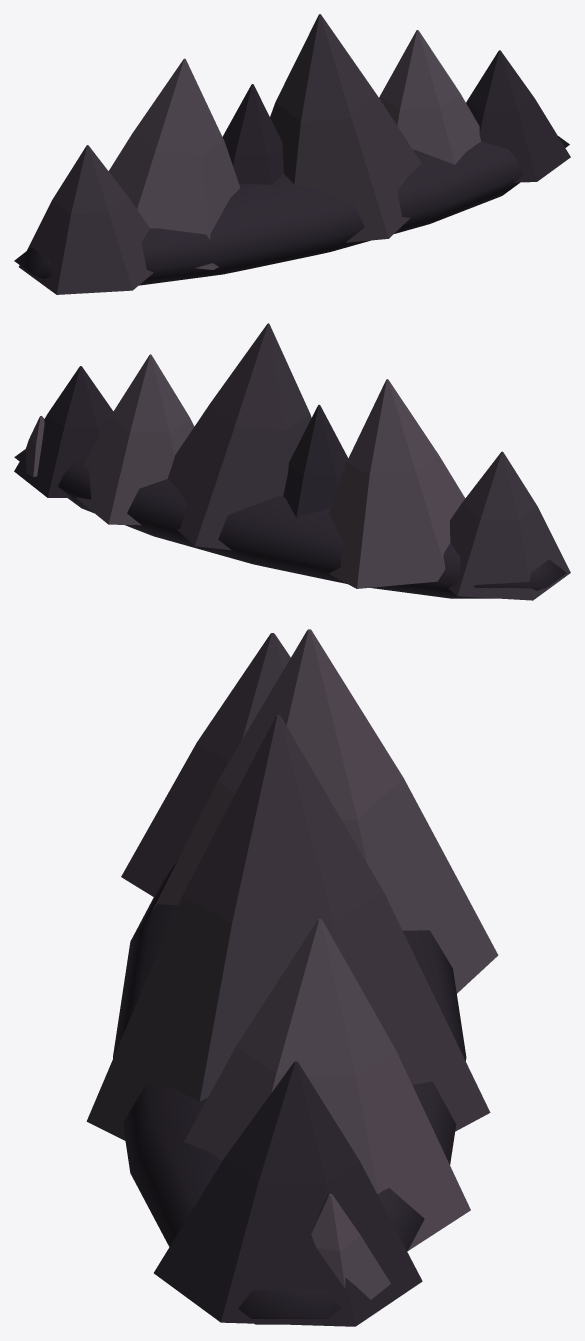
File: MountainDark.fbx
The picture shows the model from 3 angles, top to bottom: view 1: azimuth 30°, elevation 25°; view 2: azimuth 150°, elevation 25°; view 3: azimuth 270°, elevation 25°; orthographic projection. The views are drawn at different scales.
Visible parts, largest first — view 1: Frame; view 2: Frame; view 3: Frame.
Boxes of the visible parts, <box> form: Frame: <box>14,14,570,294</box>; Frame: <box>14,323,570,600</box>; Frame: <box>86,629,498,1326</box>.
Size of the model in its own units: 29.25 by 11.8 by 9.79.
1 material, 1 textured.
